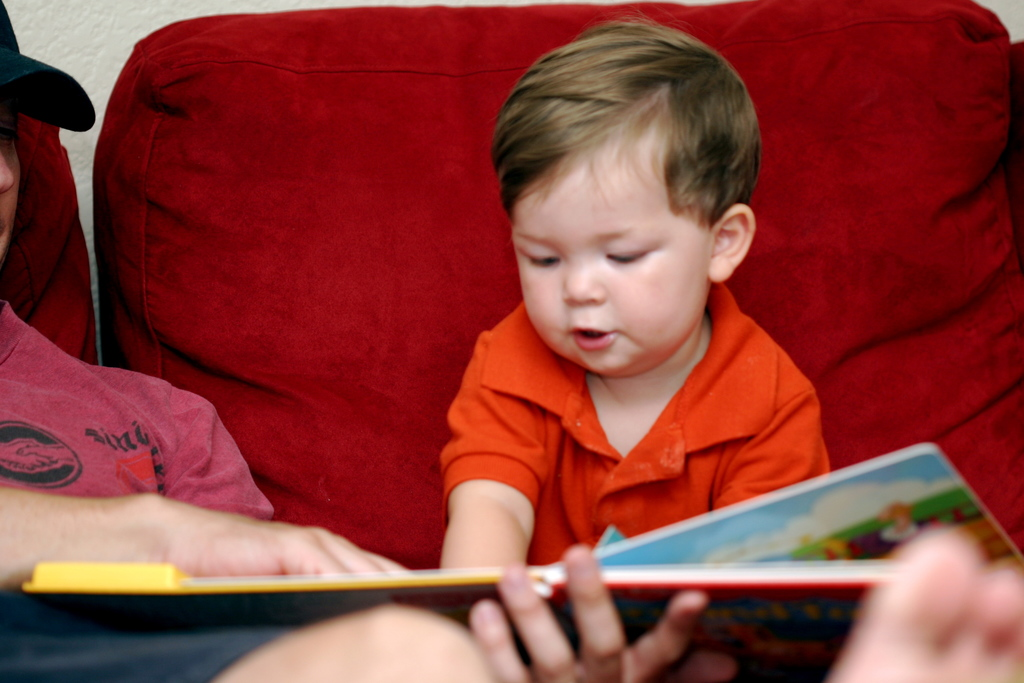Person: (0, 40, 1024, 683), (436, 9, 830, 683)
